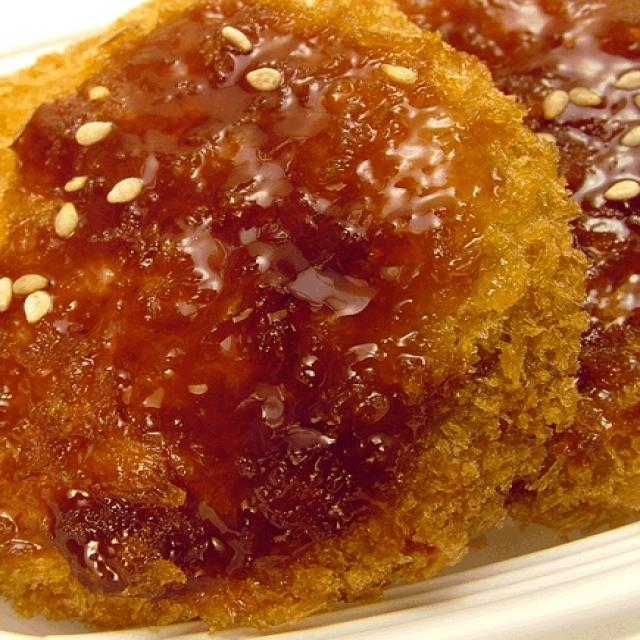炸货点心: (3, 13, 613, 621)
